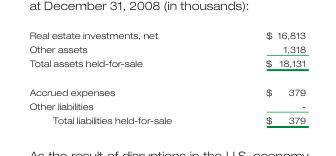table: (28, 29, 305, 125)
table column: (28, 29, 217, 125), (217, 29, 305, 125)
table row: (28, 55, 305, 77), (28, 77, 305, 98), (28, 41, 305, 55), (28, 98, 305, 112), (28, 112, 305, 125), (28, 29, 305, 41)
